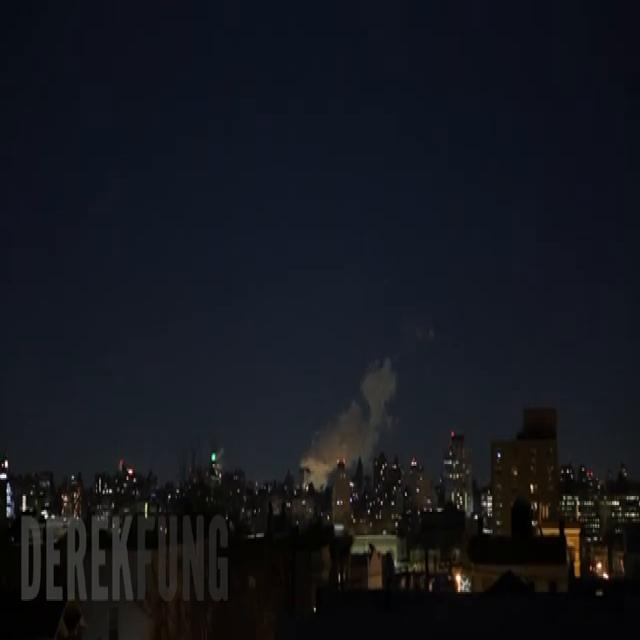smoke: (301, 356, 397, 482)
